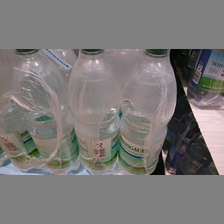water: (12, 49, 78, 175), (121, 49, 176, 175), (69, 49, 120, 175)
